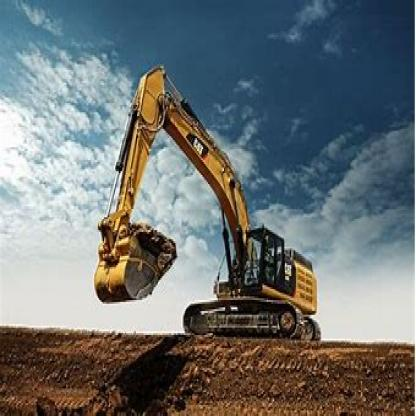excavator: (86, 55, 326, 348)
